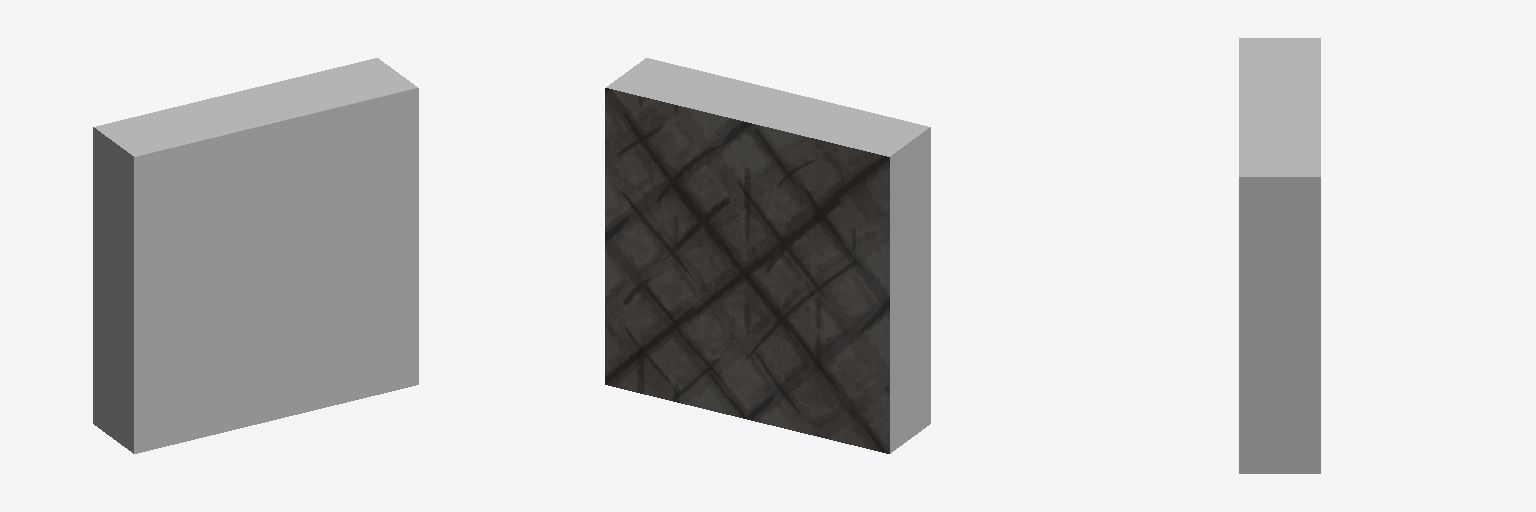
3 views of the same model, side by side, from view 1: azimuth 30°, elevation 25°; view 2: azimuth 150°, elevation 25°; view 3: azimuth 270°, elevation 25° (orthographic).
Parts seen in each view (by area): view 1: surface_single_surface_single_mesh; view 2: surface_single_surface_single_mesh; view 3: surface_single_surface_single_mesh.
Boxes of the visible parts, x1,y1,x2,y2 form: surface_single_surface_single_mesh: [93, 58, 418, 453]; surface_single_surface_single_mesh: [605, 58, 930, 453]; surface_single_surface_single_mesh: [1239, 38, 1320, 473].
Size of the model in its own units: 1 by 1 by 0.25.
3 materials, 1 textured.